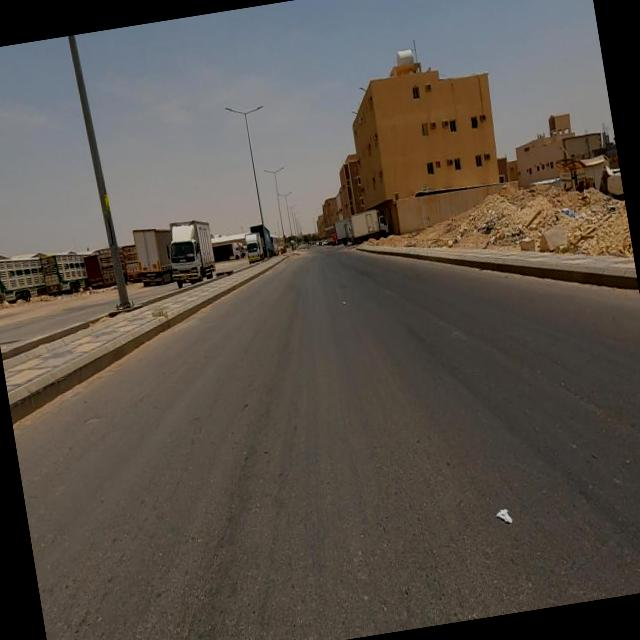debris: (469, 464, 535, 560), (530, 170, 598, 246), (426, 202, 485, 282), (462, 200, 516, 264)
